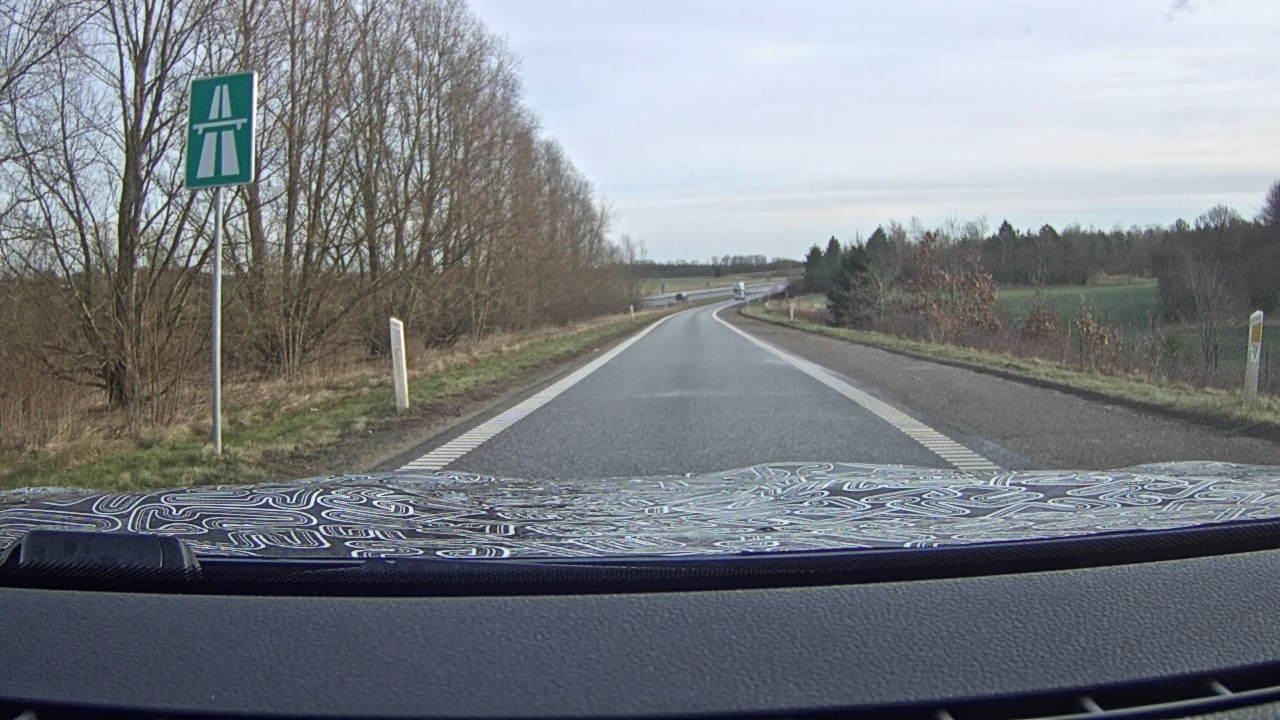Motorway_Begin: (183, 70, 256, 190)
